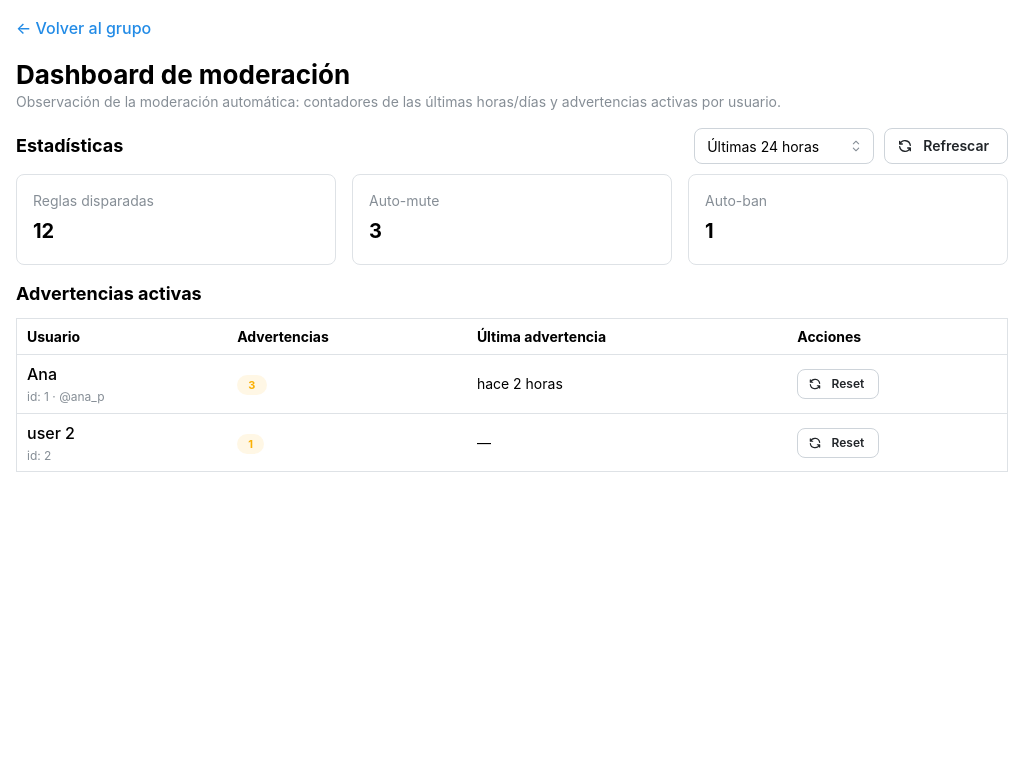
Scenario: GroupModerationPage › muestra notifyError cuando el reset falla
Click the button with test id "warning-reset-1": (838, 384) x1=797 y1=369 x2=879 y2=399
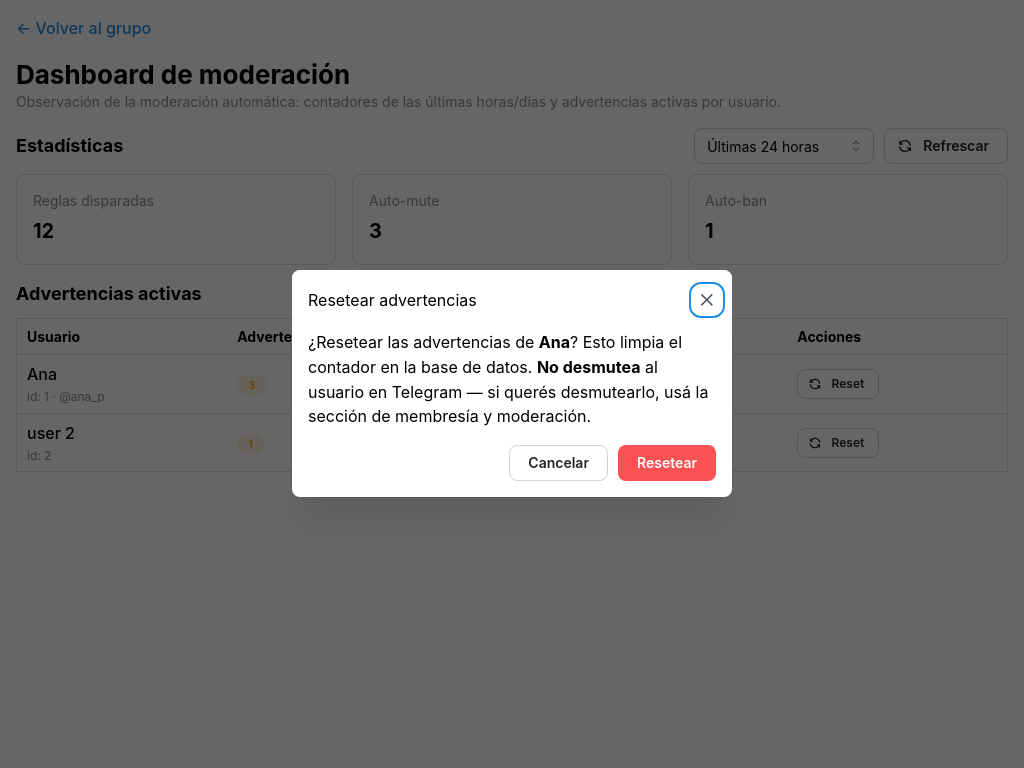
Click the button with test id "reset-warning-confirm": (667, 464) x1=618 y1=446 x2=716 y2=482
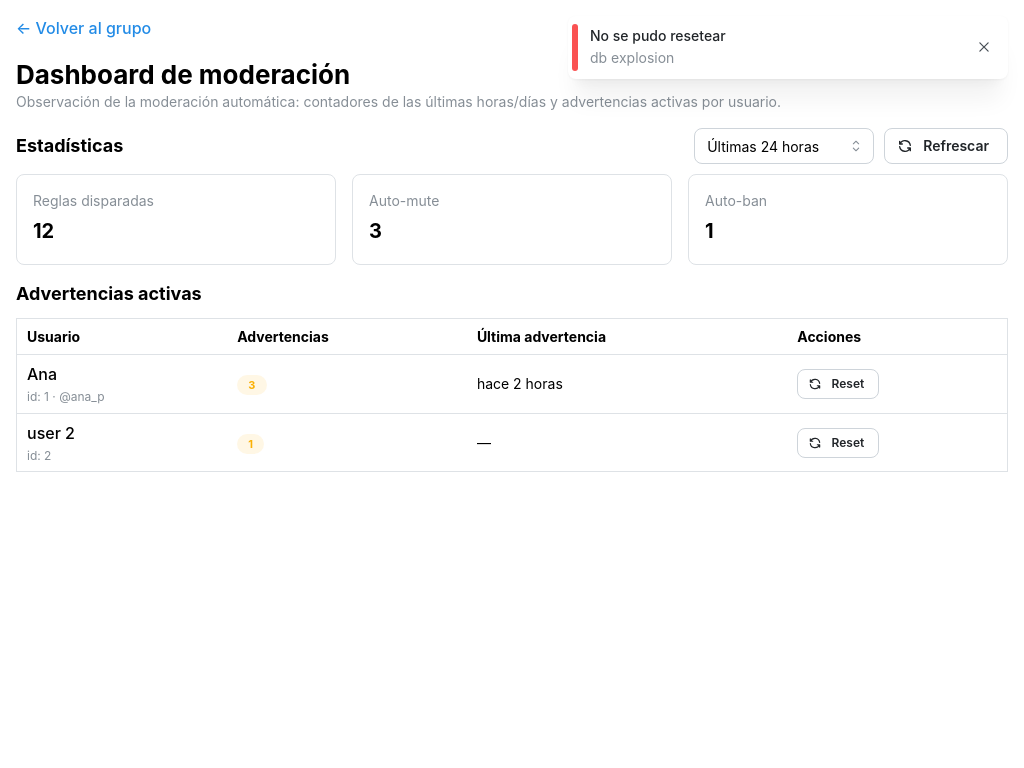
Result: the text "No se pudo resetear" is shown at x1=590 y1=27 x2=726 y2=44
